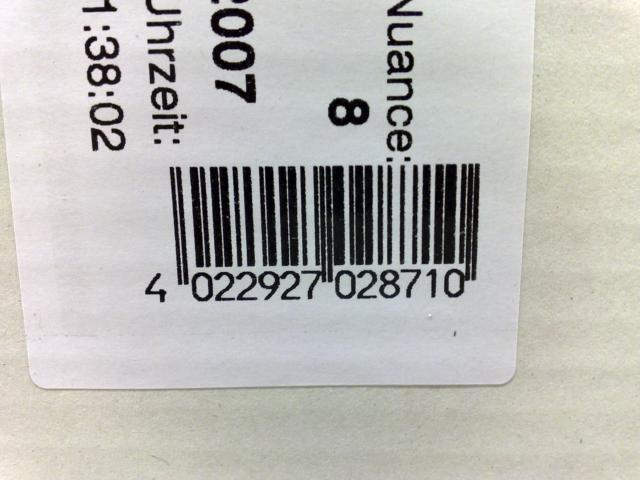Barcode: (139, 159, 491, 313)
